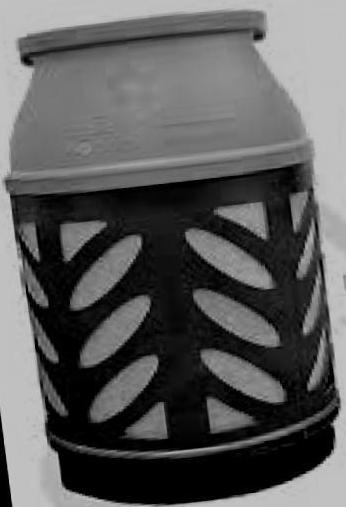cylinder: (1, 1, 346, 507)
